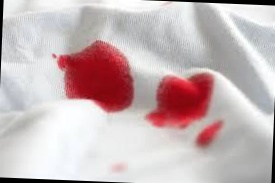blood: (55, 39, 137, 114), (145, 68, 215, 131)
